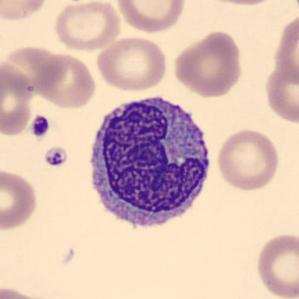Monocyte: (81, 87, 219, 238)
Platelets: (41, 145, 69, 169), (29, 114, 51, 139)
RBC: (171, 29, 244, 98), (214, 126, 281, 192), (94, 34, 169, 92), (33, 51, 98, 111), (51, 0, 123, 53), (253, 230, 298, 299), (0, 59, 37, 137), (113, 0, 188, 35), (0, 167, 40, 231), (262, 60, 298, 126), (272, 17, 299, 89), (0, 0, 50, 23), (1, 284, 61, 299), (193, 0, 281, 7), (288, 0, 299, 19)
